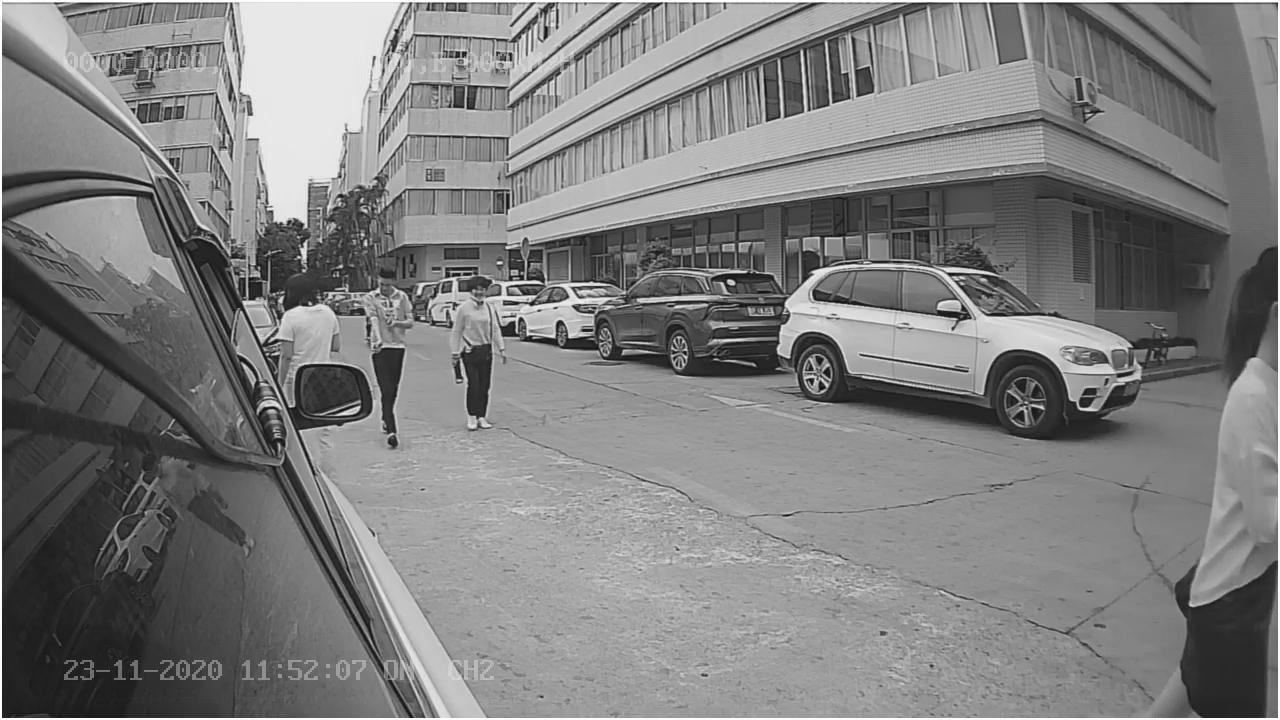person: (446, 261, 516, 435), (358, 262, 421, 347)
